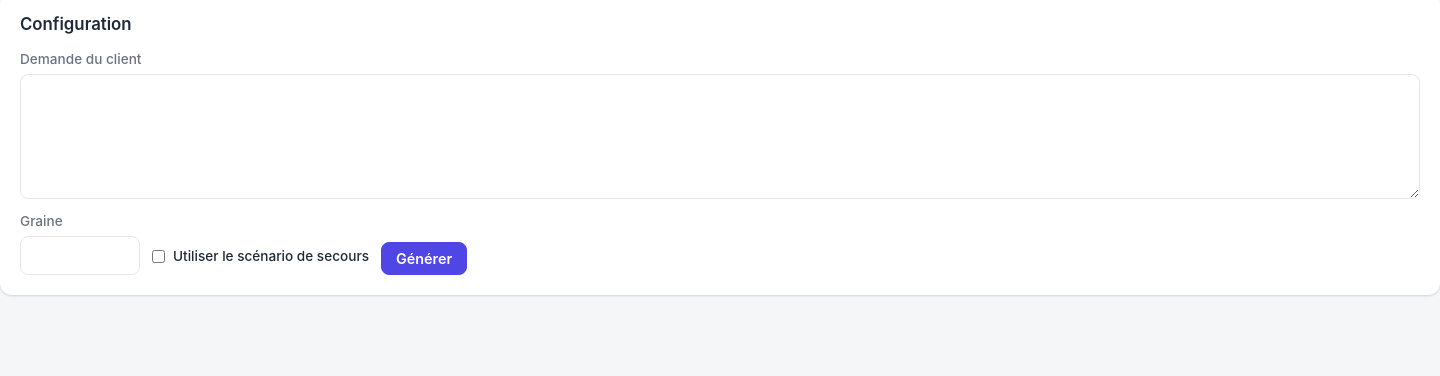
Test: SetupPanel › shows the rejection reason on 422 without ticking the fallback
What coordinates should you click on to do the following:
click the button "Générer"
I would click on:
 (424, 259)
Its box is [381, 242, 467, 276].
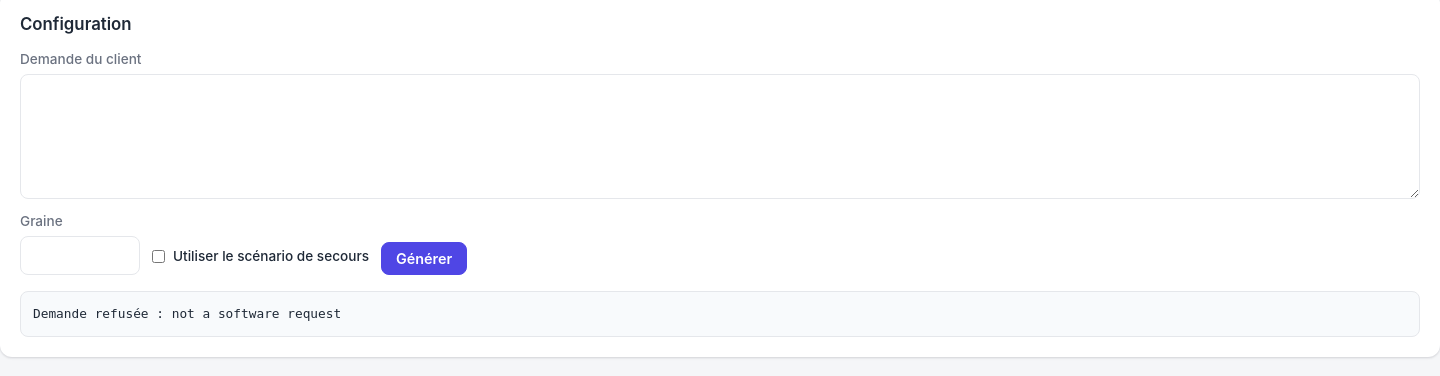
Expected: the checkbox labelled "Utiliser le scénario de secours" is not checked, [152, 250, 165, 263]
Expected: the text "Demande refusée : not a software request" is shown, [20, 291, 1420, 337]
